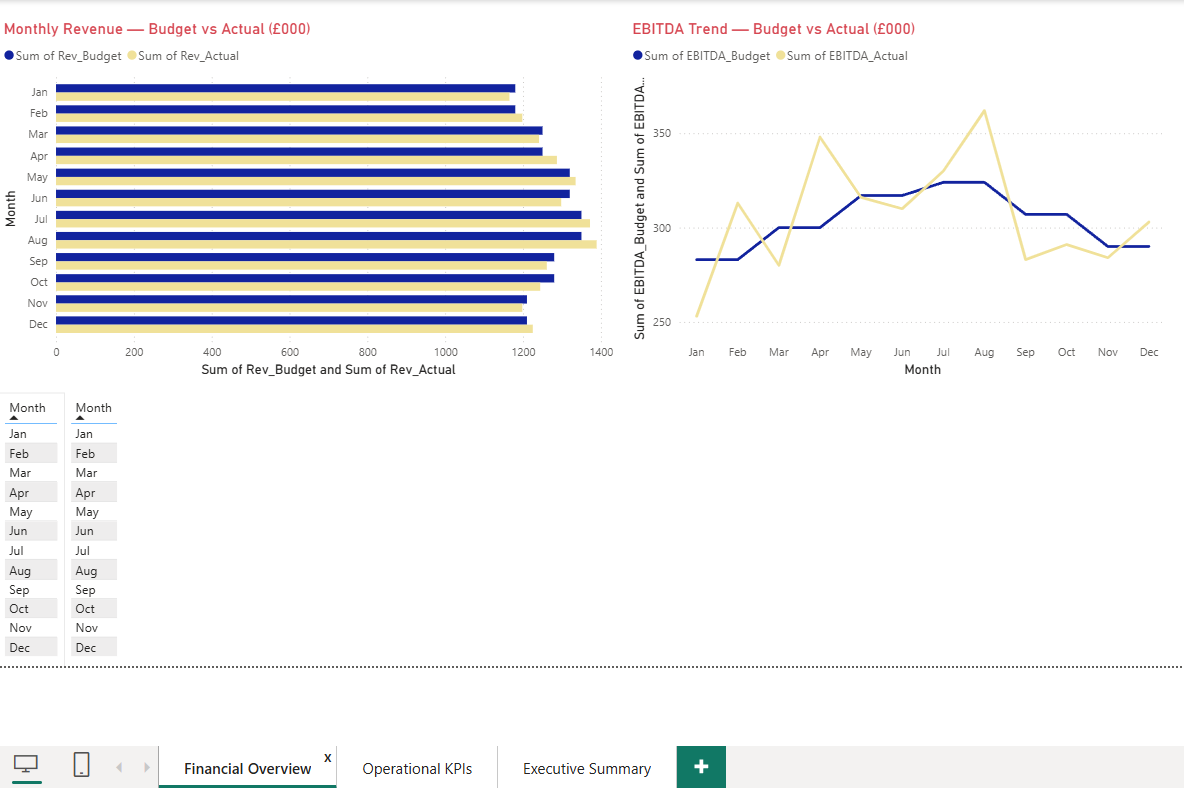

This screenshot's page, from the dashboard's own definition file:
{"tool":"powerbi","page":{"name":"Financial Overview","canvas":[1280,720],"ordinal":0},"visuals":[{"type":"tableEx","fields":{"Values":["PL_Data.Month"]},"box":[71.5,423.6,71.5,297],"z":0},{"type":"tableEx","fields":{"Values":["KPI_Data.Month"]},"box":[0,423.6,96.3,297],"z":1000},{"type":"clusteredBarChart","title":"Monthly Revenue — Budget vs Actual (£000)","fields":{"Category":["PL_Data.Month"],"Y":["Sum(PL_Data.Rev_Budget)","Sum(PL_Data.Rev_Actual)"]},"box":[0,20.6,679.3,473.1],"z":2000},{"type":"lineChart","title":"EBITDA Trend — Budget vs Actual (£000)","fields":{"Y":["Sum(PL_Data.EBITDA_Budget)","Sum(PL_Data.EBITDA_Actual)"],"Category":["PL_Data.Month"]},"box":[664.2,92.1,591.3,376.8],"z":3000}]}

Visuals, with their boxes on the page's 1280x720 design canvas (x1, y1, x2, y2). These are canvas units, not pixel positions in the 1184x788 screenshot, which may show the page scaled, cropped or inside an application window:
tableEx - PL_Data.Month: 72 424 143 721
tableEx - KPI_Data.Month: 0 424 96 721
"Monthly Revenue — Budget vs Actual (£000)" clusteredBarChart: 0 21 679 494
"EBITDA Trend — Budget vs Actual (£000)" lineChart: 664 92 1256 469
